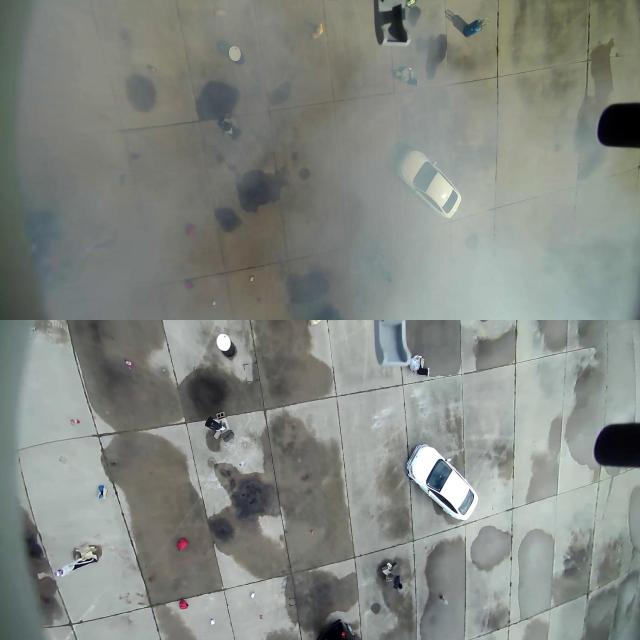car: (394, 130, 476, 236), (406, 444, 477, 522)
